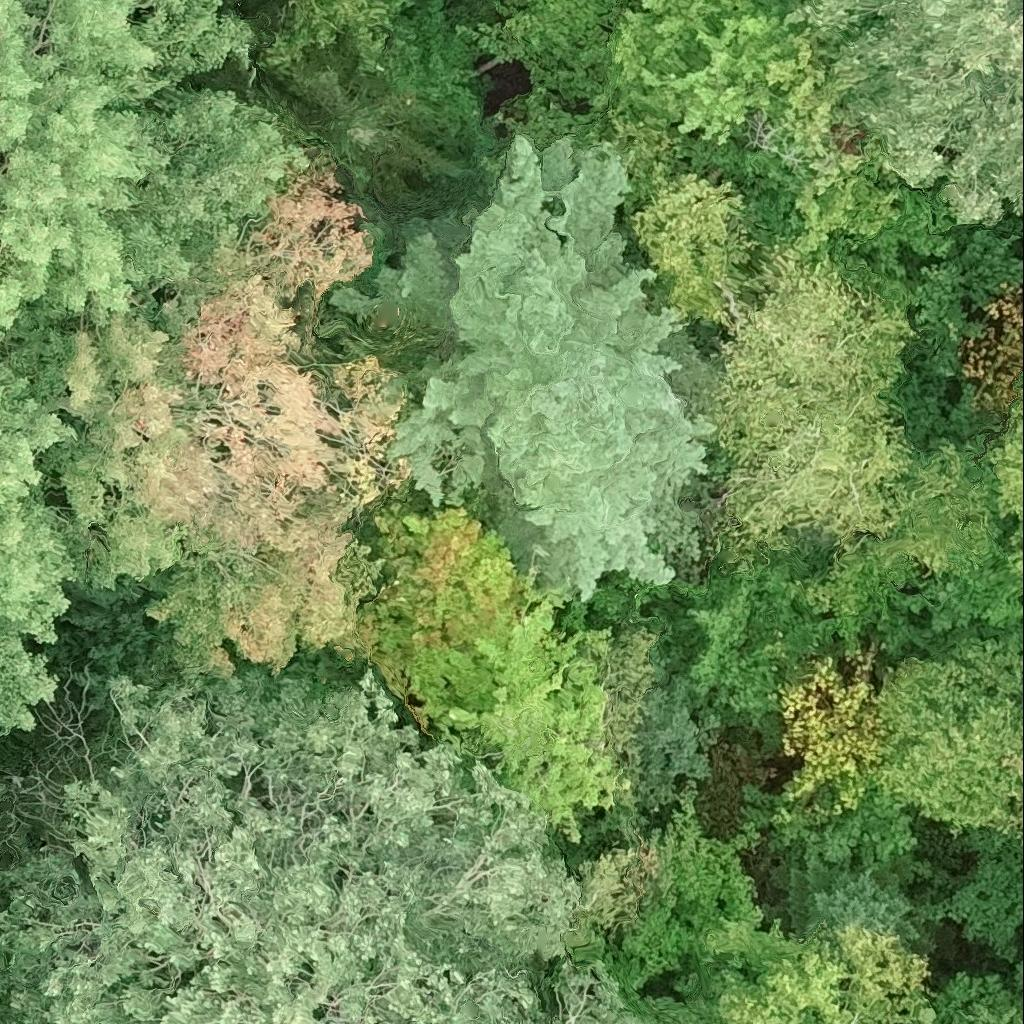crown: (0, 154, 417, 688), (331, 133, 719, 599), (612, 109, 980, 569), (466, 0, 979, 316), (0, 0, 312, 332), (792, 0, 1023, 216), (296, 71, 471, 206), (0, 363, 78, 623), (995, 410, 1023, 576), (0, 329, 8, 341)
